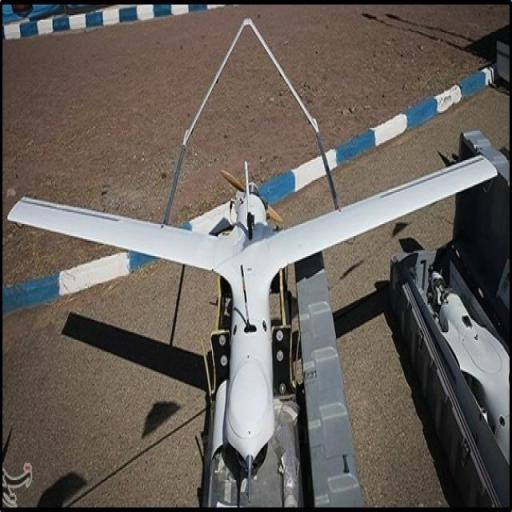uav: (5, 152, 512, 512)
